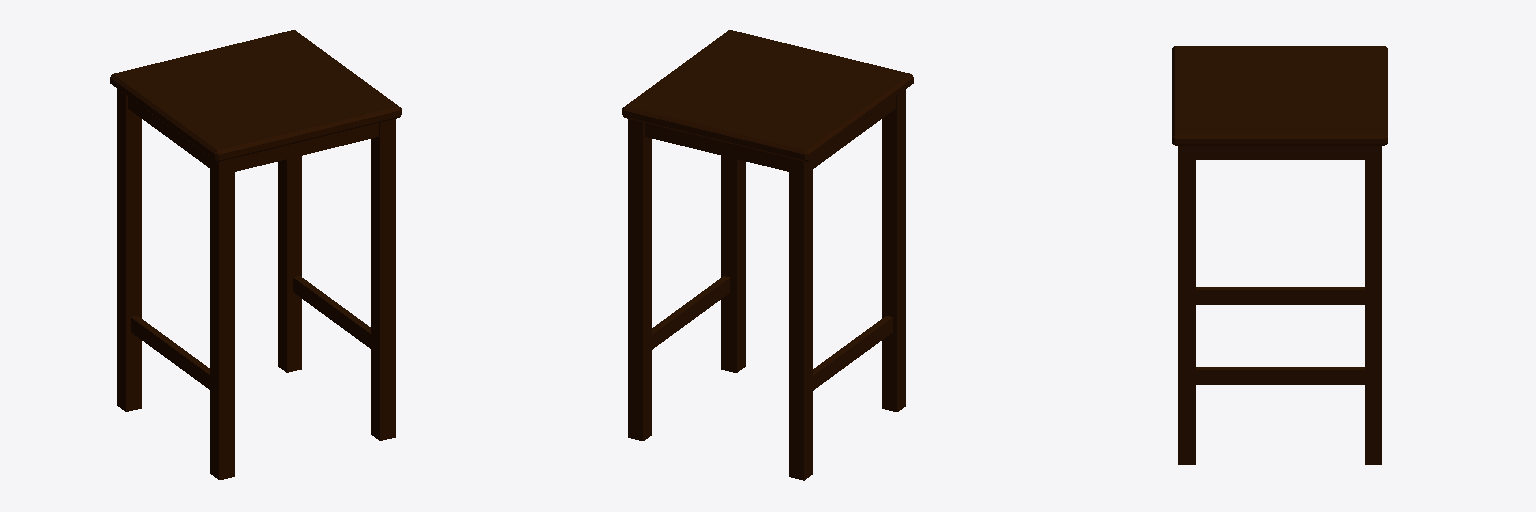
The model's file is nigthstand.obj.
3 views of the same model, side by side, from view 1: azimuth 30°, elevation 25°; view 2: azimuth 150°, elevation 25°; view 3: azimuth 270°, elevation 25° (orthographic).
Visible parts, largest first — view 1: pCube9; view 2: pCube9; view 3: pCube9.
Boxes of the visible parts, x1,y1,x2,y2 form: pCube9: [110, 30, 401, 479]; pCube9: [622, 30, 913, 480]; pCube9: [1172, 46, 1387, 464].
Bounding box in the file's own units: 9.28 × 15.73 × 9.28.